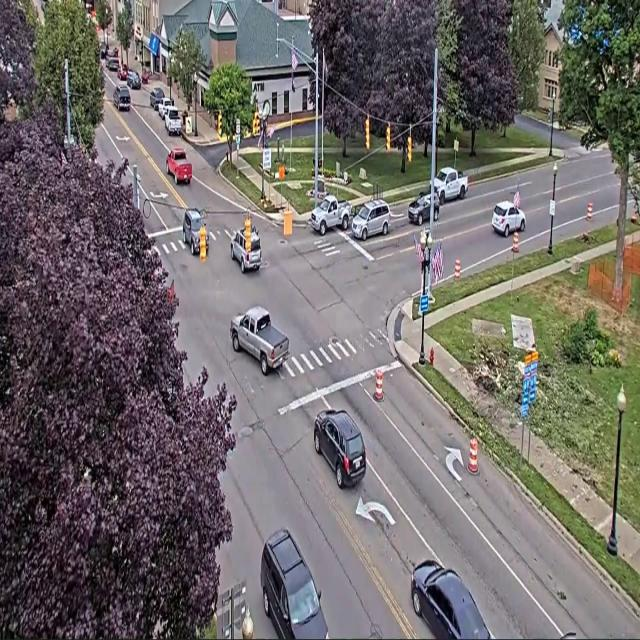car: (261, 530, 328, 639), (411, 560, 491, 639), (314, 409, 366, 488), (352, 200, 390, 240), (231, 227, 261, 273), (492, 201, 525, 237), (183, 209, 208, 255), (408, 192, 430, 225), (113, 85, 130, 111), (158, 97, 173, 119), (150, 88, 164, 110), (127, 71, 141, 89), (117, 64, 128, 82), (106, 57, 119, 71), (100, 42, 108, 59), (141, 70, 150, 84), (107, 48, 118, 57)
traffic signal: (245, 216, 251, 253), (200, 225, 206, 261), (365, 117, 370, 149), (253, 111, 259, 135), (407, 135, 412, 162), (386, 125, 390, 151), (218, 112, 221, 137)
truck: (230, 307, 288, 375), (310, 195, 351, 235), (434, 168, 467, 205), (166, 147, 192, 184), (164, 107, 182, 136)
